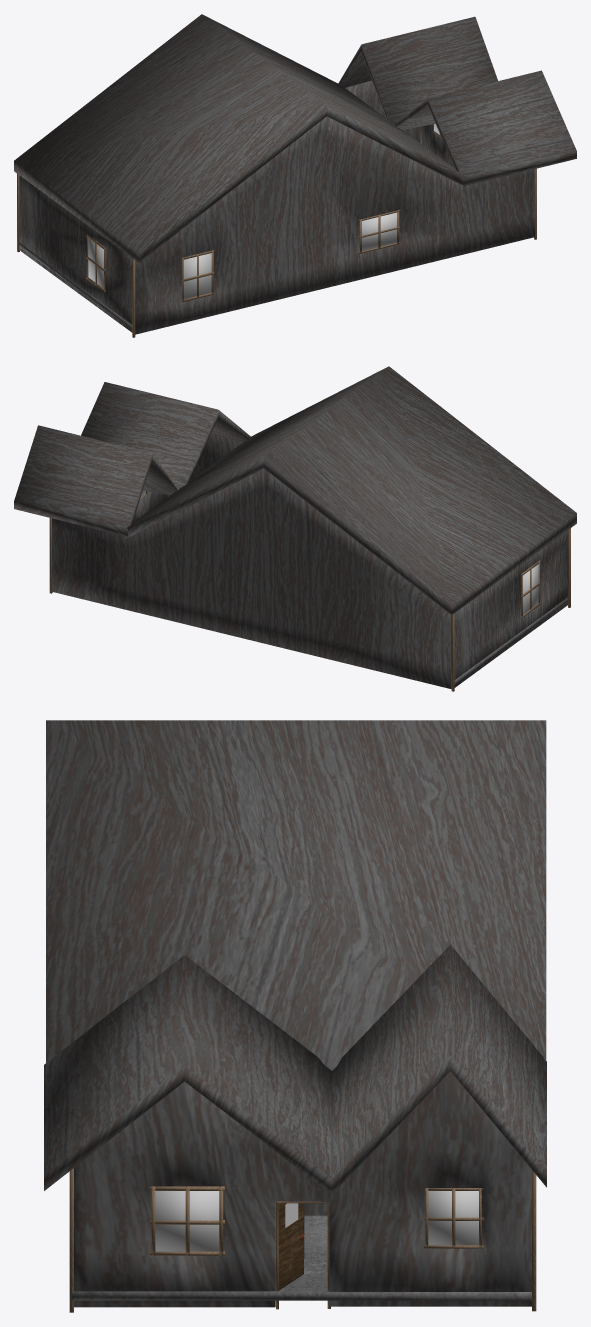
File: Casa.fbx
3 renders of one model, top to bottom at view 1: azimuth 30°, elevation 25°; view 2: azimuth 150°, elevation 25°; view 3: azimuth 270°, elevation 25°, orthographic. The views are drawn at different scales.
Visible parts, largest first — view 1: Techo, Pared.001, Techo.001, Pared.004, Ventana.003, Ventana.004, Pared.003, Pared.002, Piso_casa, Soporte_ventana.007, Soporte_ventana.008, Ventana.005 (+1 smaller); view 2: Pared.003, Techo, Techo.001, Pared.004, Pared.001, Piso_casa, Ventana.005, Pared.002, Soporte_ventana.009; view 3: Techo, Pared.002, Techo.001, Piso_casa, Ventana.002, Ventana.001, Puerta, Soporte_ventana.006, Soporte_ventana.011, Soporte_puerta.
Part boxes in pixels (x1=…): Techo: x1=14, y1=14, x2=465, y2=262; Pared.001: x1=135, y1=116, x2=534, y2=334; Techo.001: x1=338, y1=16, x2=576, y2=186; Pared.004: x1=19, y1=175, x2=132, y2=332; Ventana.003: x1=362, y1=212, x2=396, y2=251; Ventana.004: x1=184, y1=253, x2=211, y2=299; Pared.003: x1=345, y1=80, x2=419, y2=142; Pared.002: x1=420, y1=124, x2=454, y2=168; Piso_casa: x1=19, y1=242, x2=132, y2=329; Soporte_ventana.007: x1=358, y1=210, x2=400, y2=253; Soporte_ventana.008: x1=181, y1=250, x2=214, y2=302; Ventana.005: x1=88, y1=238, x2=103, y2=288; Pared.003: x1=52, y1=468, x2=451, y2=688; Techo: x1=125, y1=366, x2=576, y2=614; Techo.001: x1=14, y1=382, x2=250, y2=536; Pared.004: x1=451, y1=530, x2=567, y2=688; Pared.001: x1=168, y1=433, x2=242, y2=496; Piso_casa: x1=454, y1=597, x2=568, y2=684; Ventana.005: x1=523, y1=564, x2=538, y2=614; Pared.002: x1=132, y1=491, x2=167, y2=522; Soporte_ventana.009: x1=521, y1=560, x2=540, y2=618; Techo: x1=46, y1=720, x2=546, y2=1070; Pared.002: x1=74, y1=1071, x2=531, y2=1307; Techo.001: x1=44, y1=944, x2=546, y2=1193; Piso_casa: x1=72, y1=1201, x2=531, y2=1300; Ventana.002: x1=155, y1=1191, x2=219, y2=1251; Ventana.001: x1=428, y1=1191, x2=478, y2=1245; Puerta: x1=278, y1=1203, x2=304, y2=1290; Soporte_ventana.006: x1=149, y1=1186, x2=224, y2=1255; Soporte_ventana.011: x1=424, y1=1188, x2=483, y2=1248; Soporte_puerta: x1=276, y1=1201, x2=330, y2=1309.
Size of the model in its own units: 50958 by 21241 by 25359.
